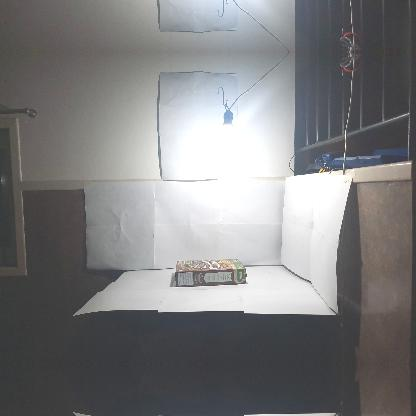Koko-Krunch: (175, 259, 247, 287)
